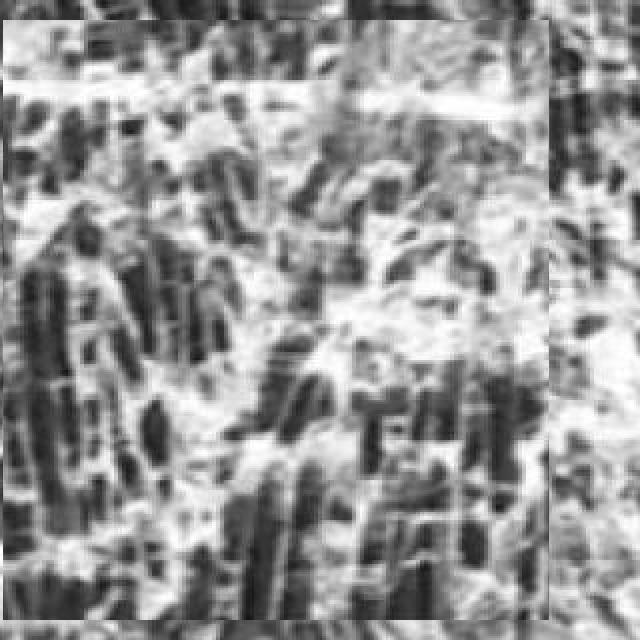Physical-damage: (3, 20, 549, 620)
